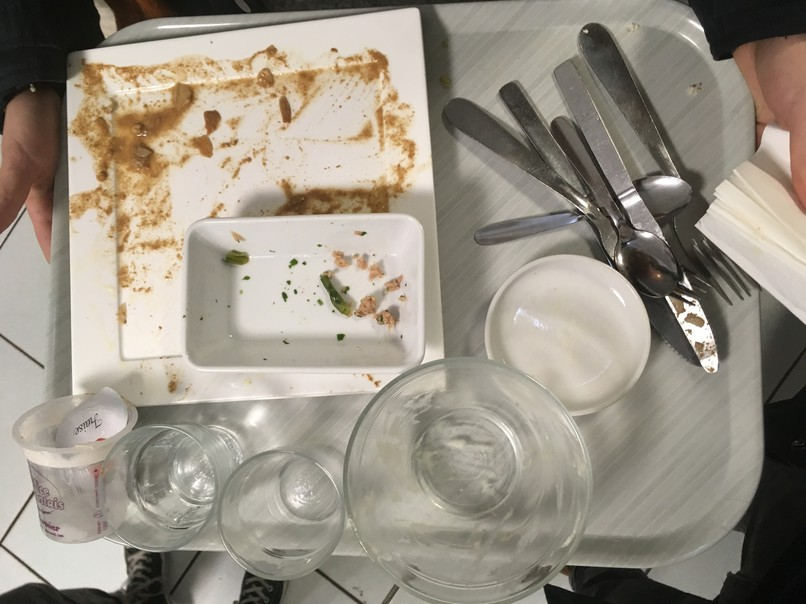cup: (205, 434, 349, 579), (95, 421, 228, 565)
cutlery: (435, 6, 759, 381)
orga: (107, 101, 215, 176)
trash: (13, 396, 149, 545), (719, 114, 806, 331)
